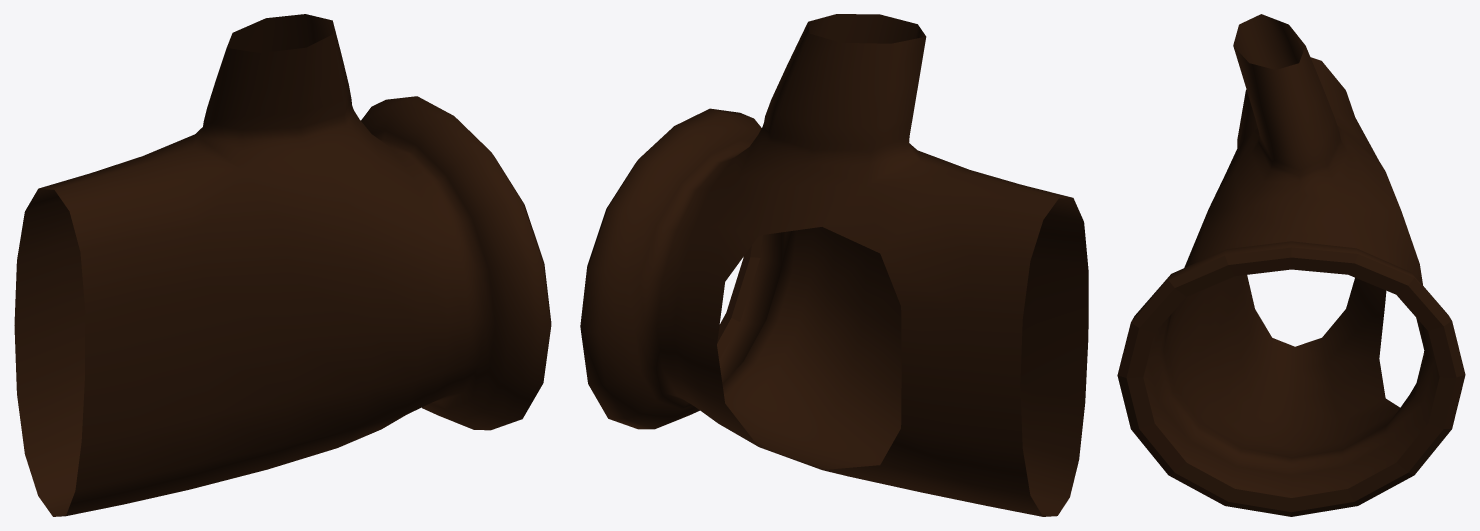
The model's file is mitten-1.glb.
3 renders of one model, left to right at view 1: azimuth 30°, elevation 25°; view 2: azimuth 150°, elevation 25°; view 3: azimuth 270°, elevation 25°, orthographic. The views are drawn at different scales.
Visible parts, largest first — view 1: mitaines; view 2: mitaines; view 3: mitaines.
Part boxes in pixels (<box>): mitaines: <box>14,14,551,516</box>; mitaines: <box>580,14,1088,516</box>; mitaines: <box>1117,14,1465,516</box>.
Bounding box in the file's own units: 0.2949 × 0.3113 × 0.244.
